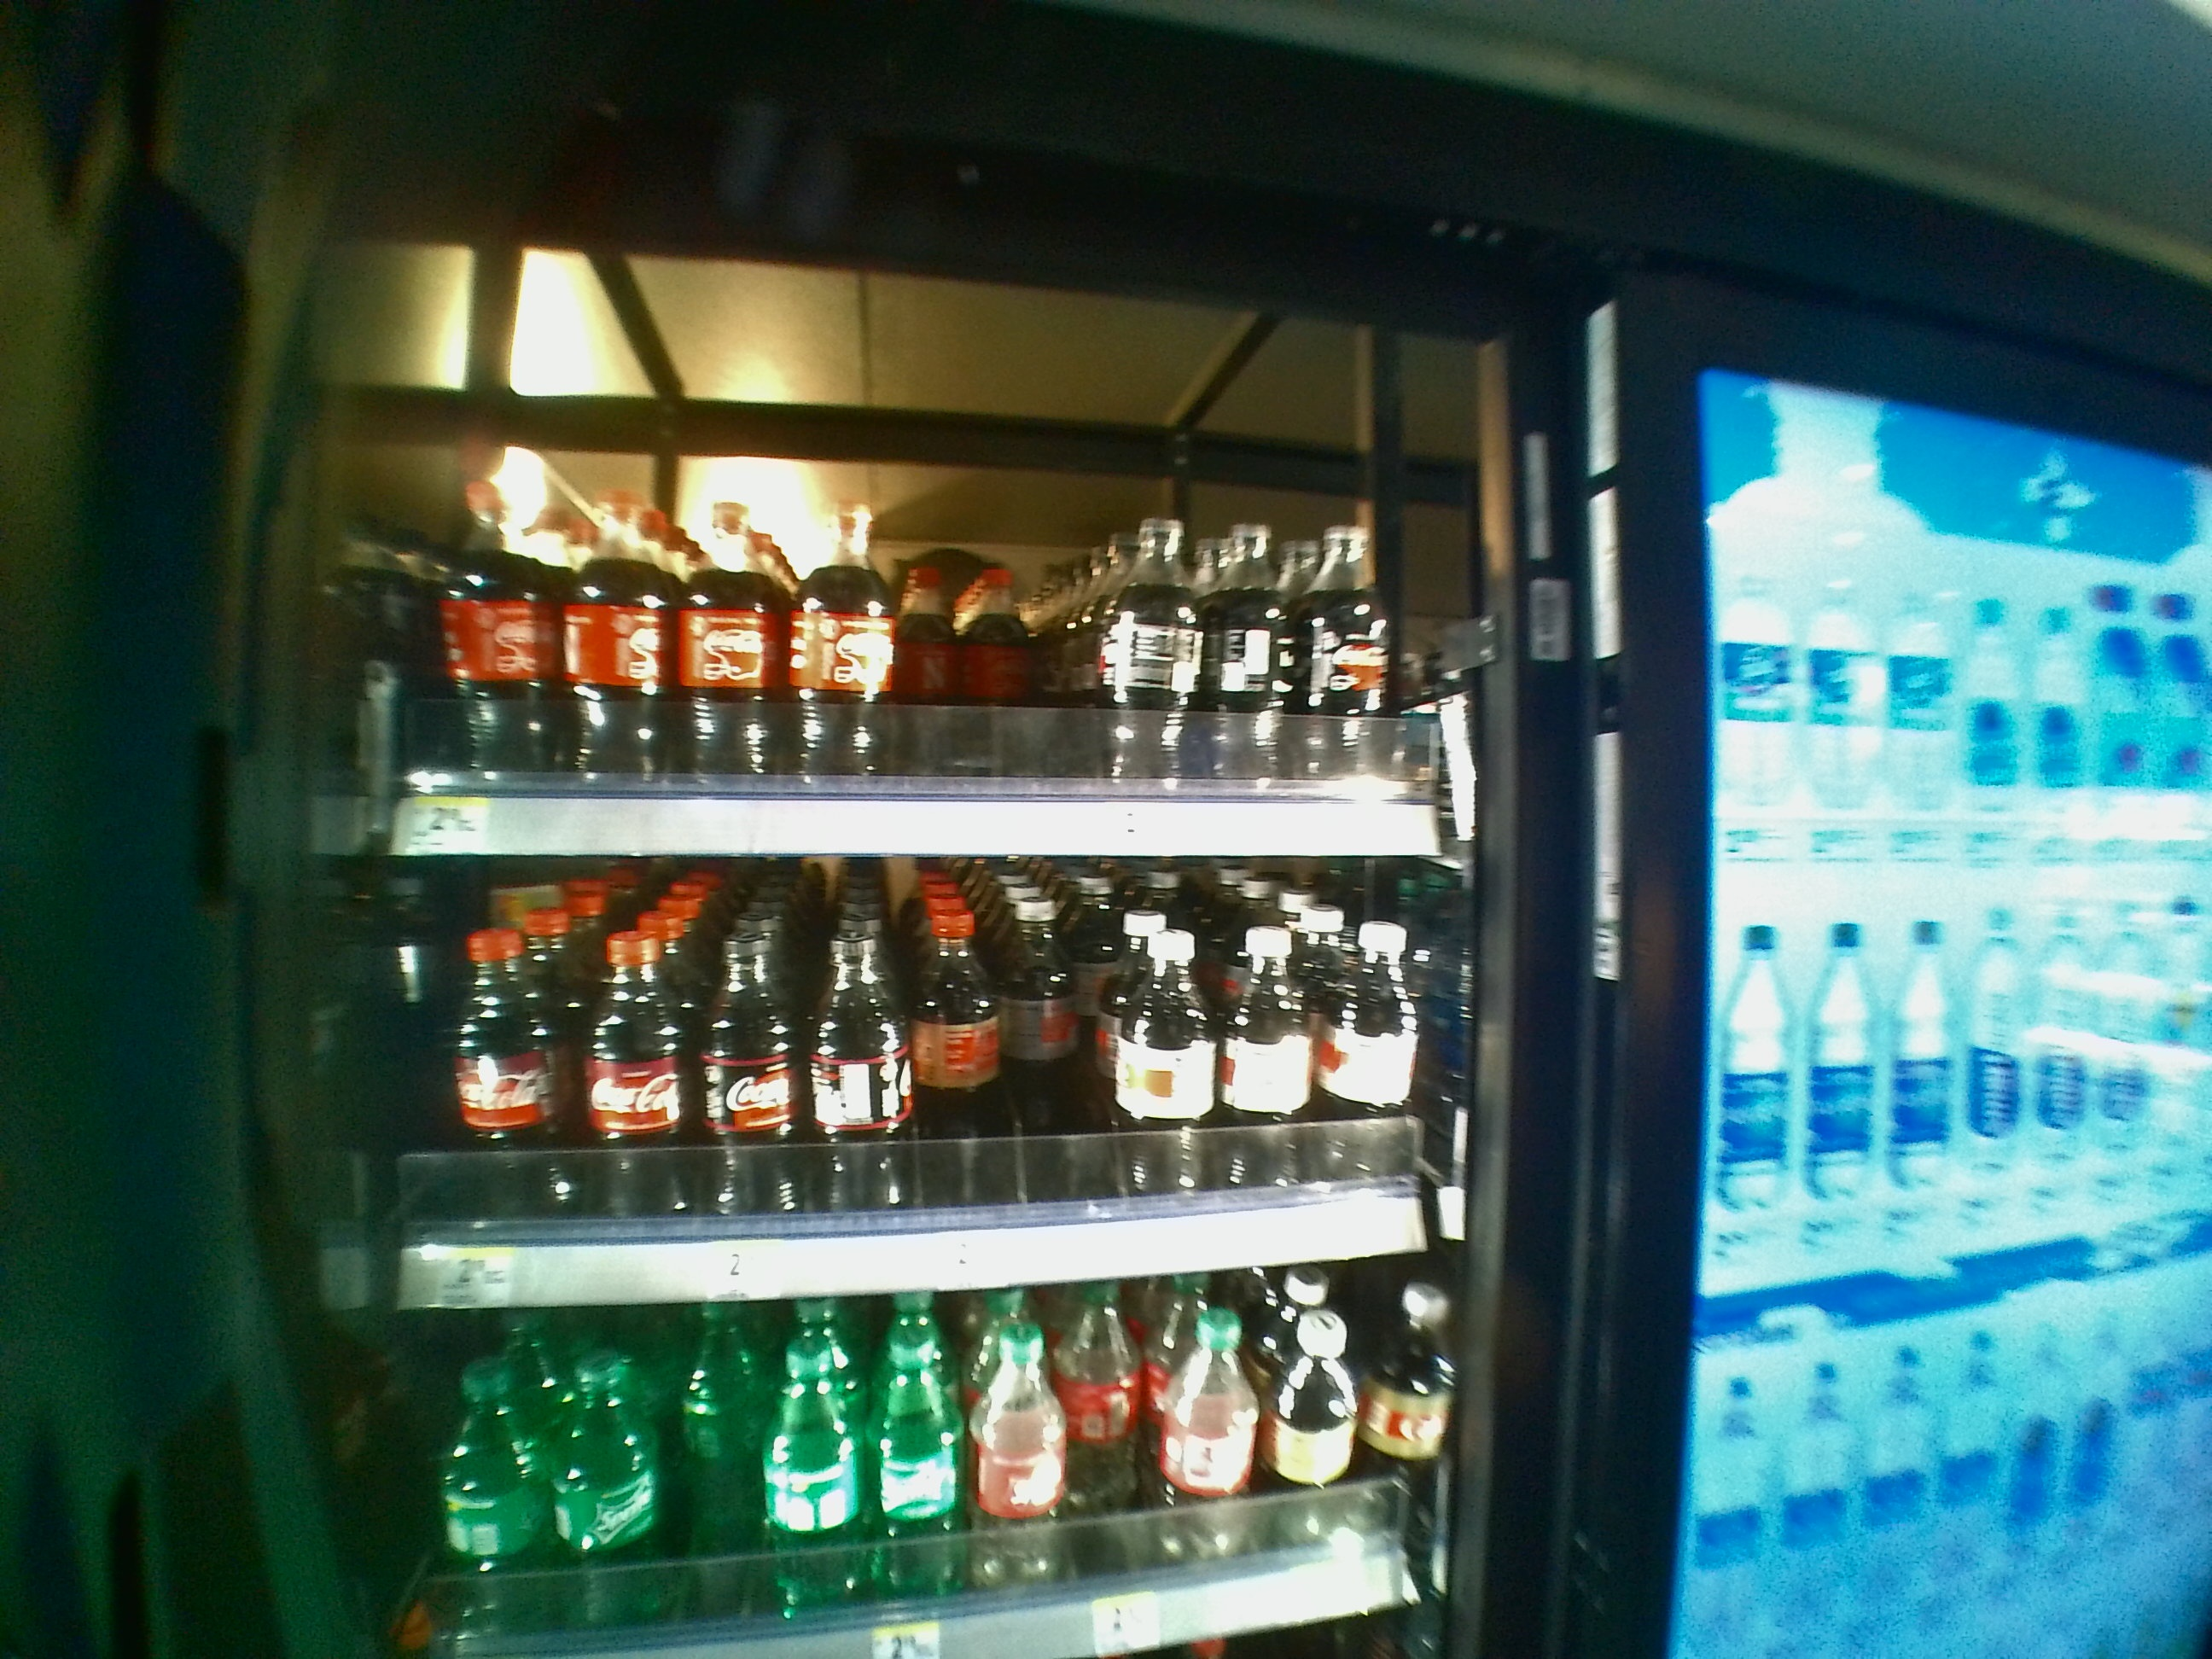shelf: (340, 244, 1493, 863), (336, 863, 1501, 1310)
